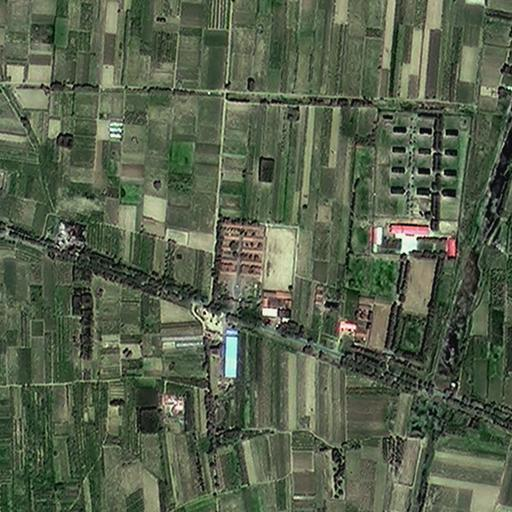school: (210, 218, 300, 320)
